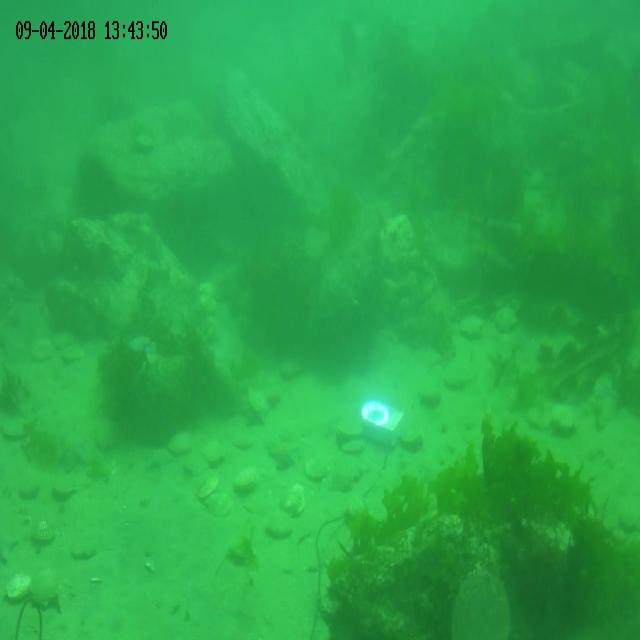scallop: (31, 562, 61, 610), (264, 508, 295, 544), (30, 512, 56, 548), (4, 570, 32, 602), (527, 400, 553, 434), (205, 488, 233, 518), (550, 403, 576, 435), (68, 538, 98, 564), (493, 303, 517, 335), (284, 482, 306, 516), (458, 312, 484, 340), (232, 466, 258, 494), (0, 413, 28, 439), (332, 458, 354, 491), (31, 335, 55, 365), (336, 416, 366, 439), (399, 424, 425, 450), (132, 132, 160, 156), (202, 438, 226, 466), (278, 354, 304, 379), (195, 473, 220, 499), (306, 453, 330, 480), (193, 294, 218, 319), (168, 434, 192, 458), (61, 341, 87, 363), (51, 327, 75, 349), (232, 428, 254, 450), (341, 437, 366, 455), (197, 277, 216, 300)
starfish: (52, 430, 89, 477), (268, 436, 300, 474), (240, 392, 270, 429), (145, 440, 175, 477), (592, 366, 620, 404), (130, 328, 160, 362), (0, 528, 18, 566)
